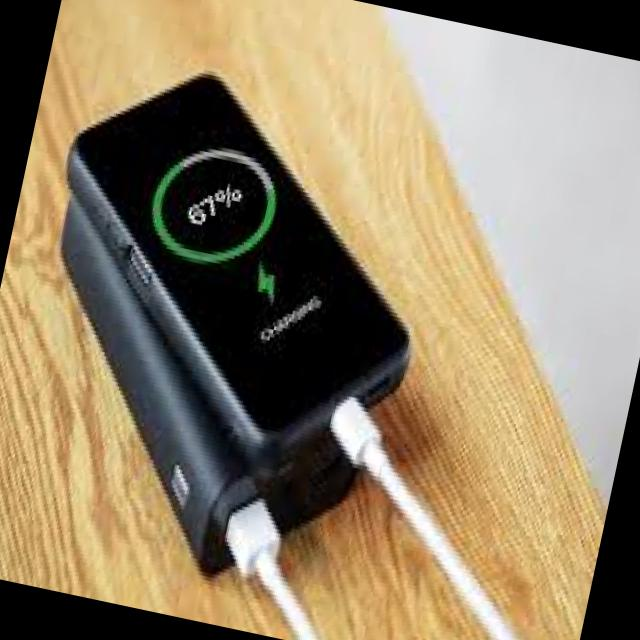power_bank: (2, 193, 407, 598)
